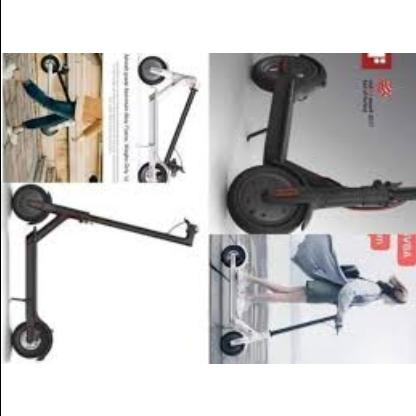bike: (226, 55, 416, 235), (216, 234, 410, 359)
